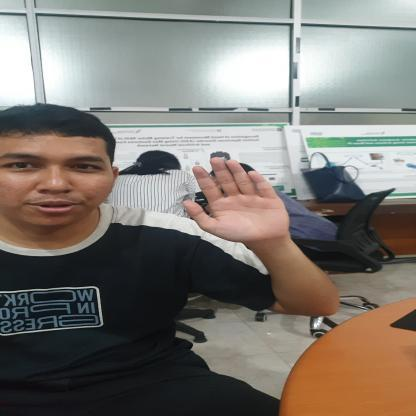Halo: (180, 154, 292, 246)
